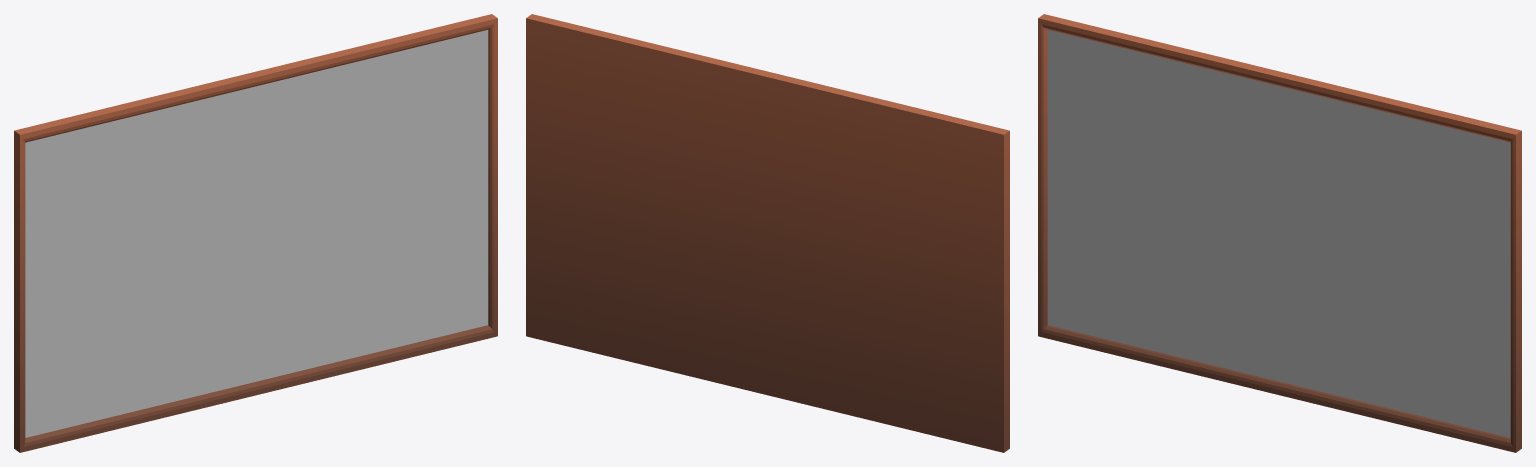
Rendered from Tableau_B.fbx.
3 views of the same model, side by side, from view 1: azimuth 30°, elevation 25°; view 2: azimuth 150°, elevation 25°; view 3: azimuth 330°, elevation 25° (orthographic).
Parts seen in each view (by area): view 1: Cube.001; view 2: Cube.001; view 3: Cube.001.
Boxes of the visible parts, x1,y1,x2,y2 form: Cube.001: (14, 14, 497, 452); Cube.001: (526, 14, 1009, 452); Cube.001: (1038, 14, 1521, 452).
Size of the model in its own units: 236 by 150 by 5.
